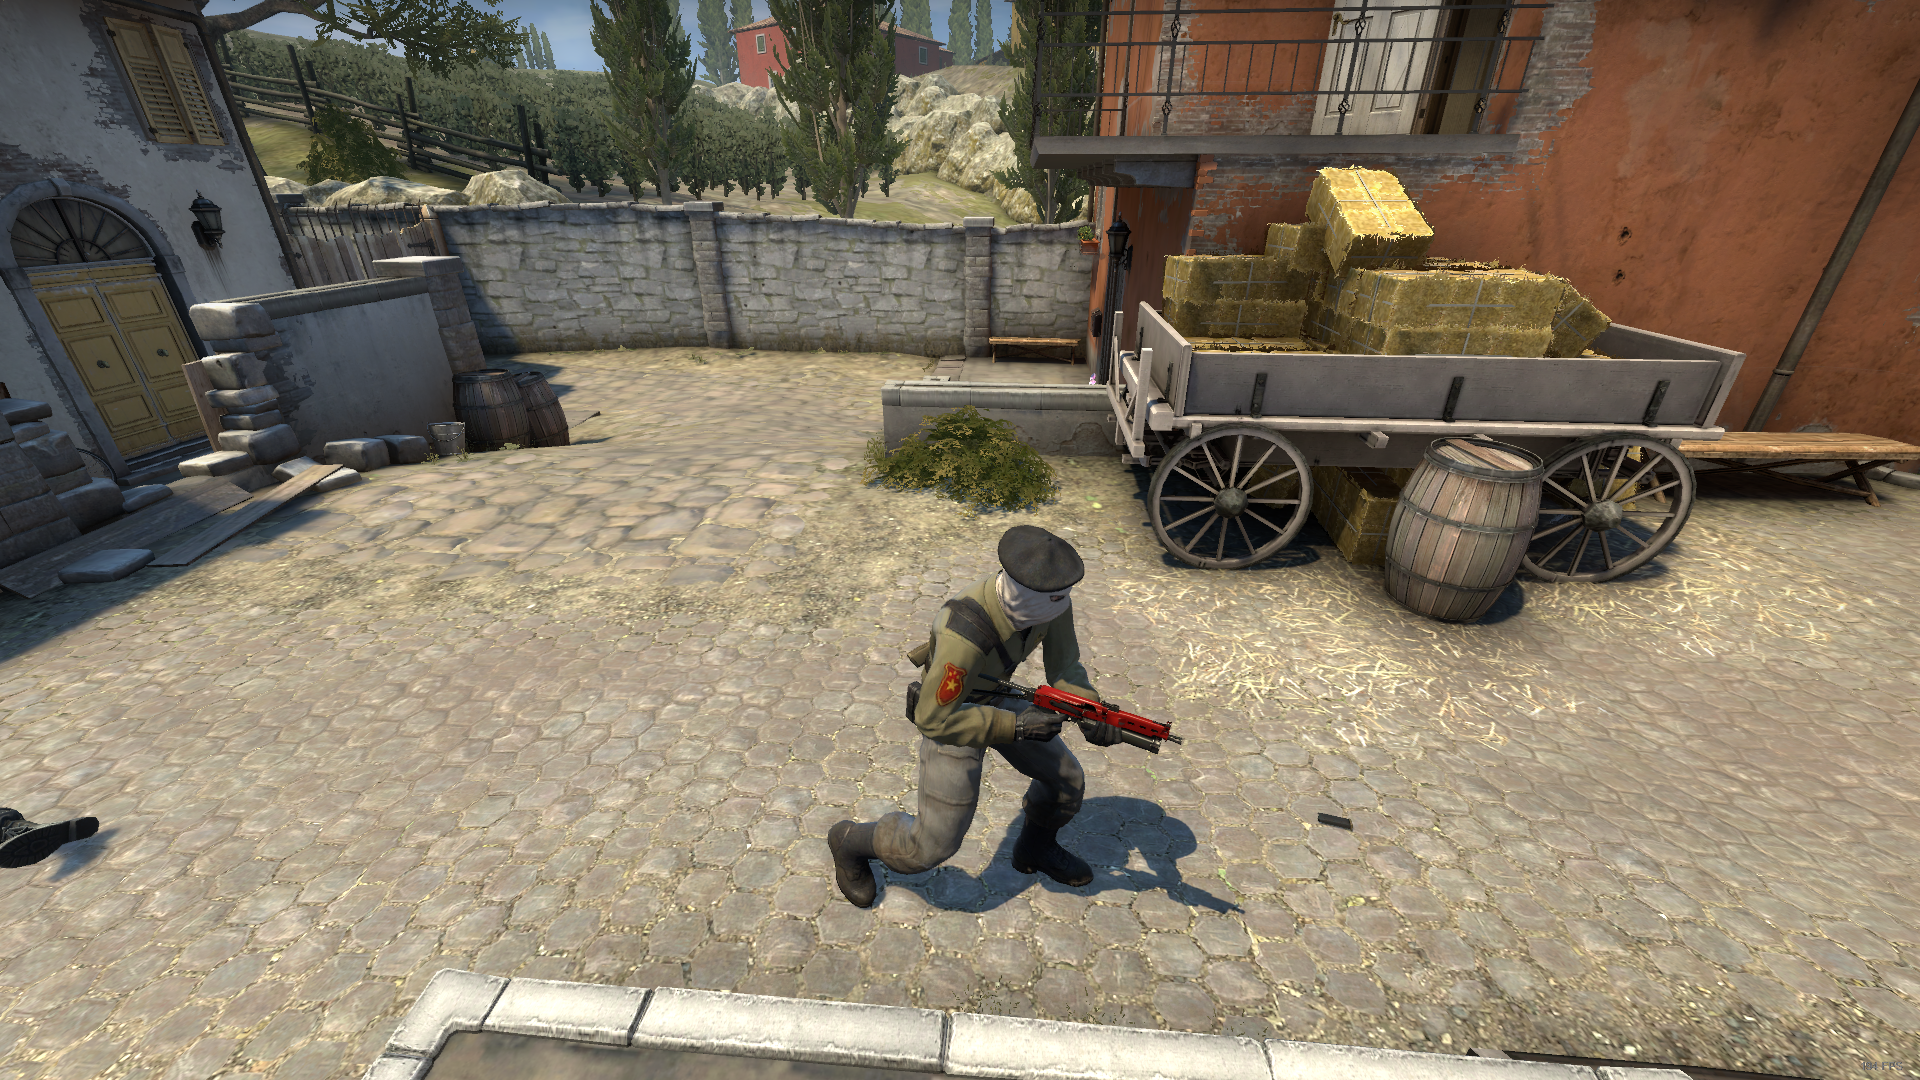t: (829, 524, 1114, 914)
